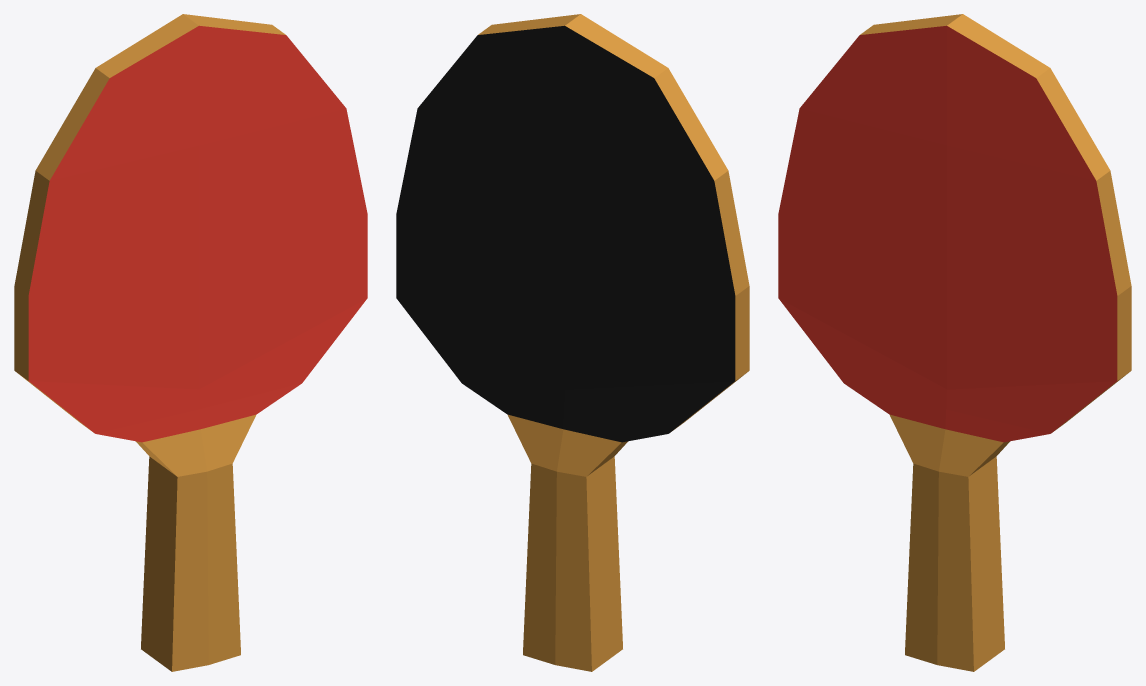
File: paddle.glb
The picture shows the model from 3 angles, left to right: view 1: azimuth 30°, elevation 25°; view 2: azimuth 150°, elevation 25°; view 3: azimuth 330°, elevation 25°; orthographic projection.
Visible parts, largest first — view 1: Table_Tennis_Paddle_Cube.033; view 2: Table_Tennis_Paddle_Cube.033; view 3: Table_Tennis_Paddle_Cube.033.
Part boxes in pixels (left/top/right/bottom): Table_Tennis_Paddle_Cube.033: left=14, top=14, right=367, bottom=671; Table_Tennis_Paddle_Cube.033: left=396, top=14, right=749, bottom=671; Table_Tennis_Paddle_Cube.033: left=778, top=14, right=1131, bottom=671.
Bounding box in the file's own units: 2.03 × 3.61 × 0.3676.
